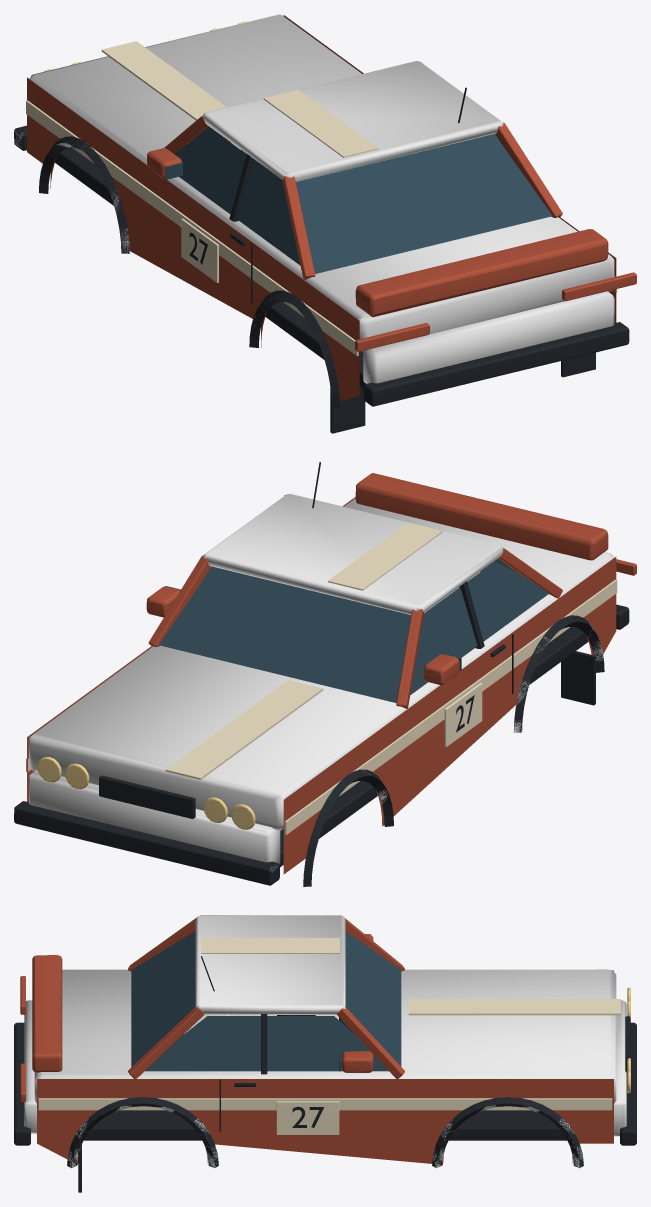
The picture shows the model from 3 angles, top to bottom: view 1: azimuth 30°, elevation 25°; view 2: azimuth 150°, elevation 25°; view 3: azimuth 270°, elevation 25°; orthographic projection. The views are drawn at different scales.
Parts seen in each view (by area): view 1: Outline_Body, red, glass, ink, ivory, BrakeLamp; view 2: Outline_Body, red, glass, ink, ivory, lamp; view 3: Outline_Body, red, glass, ink, ivory, BrakeLamp.
Boxes of the visible parts, bbox=[...] form: Outline_Body: bbox=[14, 14, 614, 404]; red: bbox=[27, 15, 616, 401]; glass: bbox=[165, 126, 552, 273]; ink: bbox=[14, 87, 629, 433]; ivory: bbox=[26, 41, 617, 355]; BrakeLamp: bbox=[355, 272, 636, 351]; Outline_Body: bbox=[28, 494, 620, 870]; red: bbox=[27, 473, 616, 874]; glass: bbox=[159, 559, 548, 702]; ink: bbox=[14, 462, 629, 886]; ivory: bbox=[26, 522, 617, 834]; lamp: bbox=[37, 757, 255, 829]; Outline_Body: bbox=[24, 915, 626, 1168]; red: bbox=[32, 918, 613, 1164]; glass: bbox=[131, 931, 401, 1071]; ink: bbox=[14, 956, 636, 1192]; ivory: bbox=[38, 938, 620, 1134]; BrakeLamp: bbox=[20, 976, 25, 1102].
Size of the model in its own units: 2.05 by 1.6 by 4.27.
